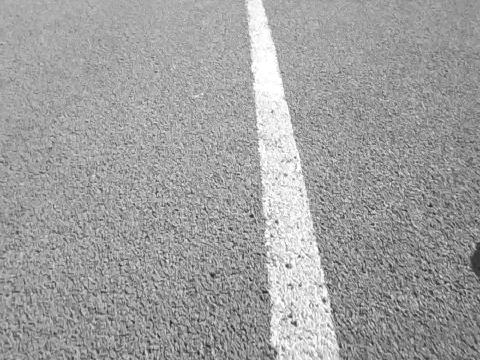Lines: (244, 0, 341, 360)
